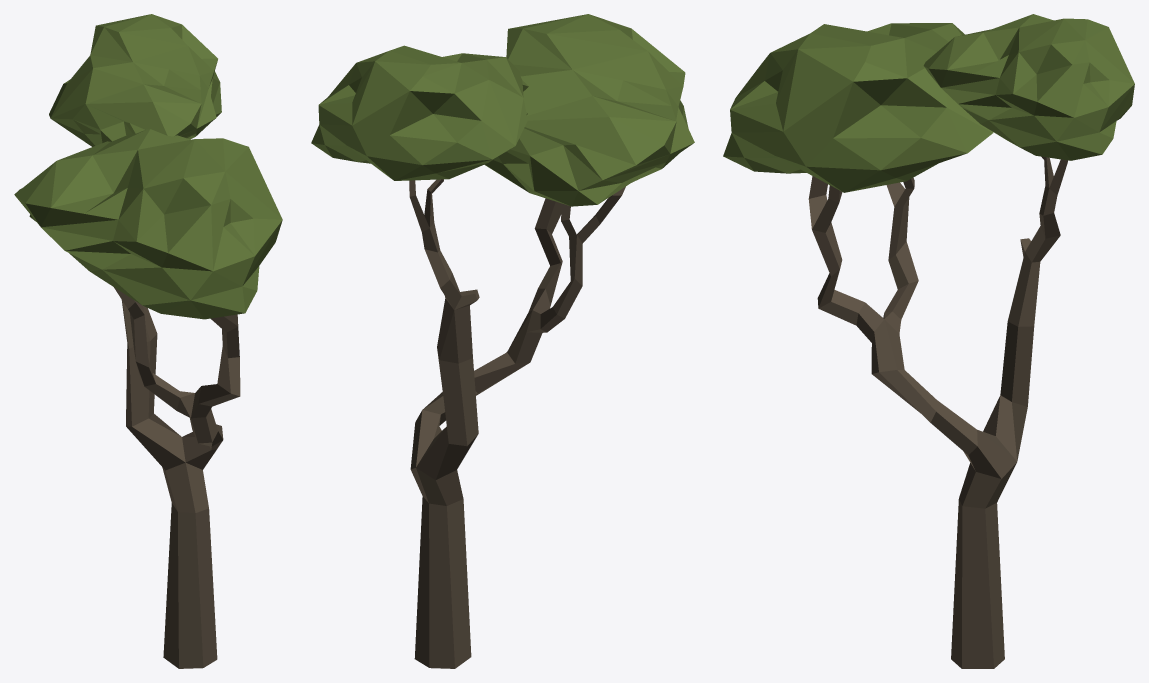
Rendered from tree_1.glb.
The picture shows the model from 3 angles, left to right: view 1: azimuth 30°, elevation 25°; view 2: azimuth 150°, elevation 25°; view 3: azimuth 270°, elevation 25°; orthographic projection. The views are drawn at different scales.
Visible parts, largest first — view 1: SM_Env_Tree_01; view 2: SM_Env_Tree_01; view 3: SM_Env_Tree_01.
Boxes of the visible parts, x1,y1,x2,y2 form: SM_Env_Tree_01: [14, 14, 282, 668]; SM_Env_Tree_01: [311, 14, 694, 668]; SM_Env_Tree_01: [723, 14, 1134, 668].
Size of the model in its own units: 1.87 by 4.21 by 2.51.
Materials: 1 (1 with a texture image).
